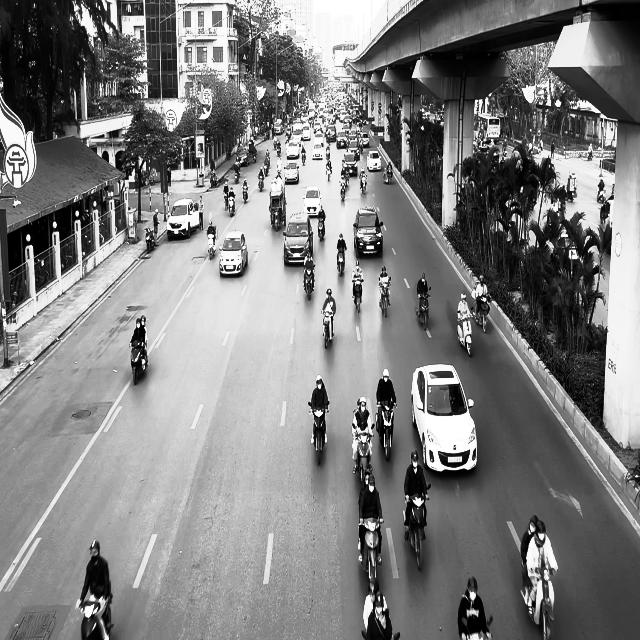bus: (477, 113, 504, 144)
car: (410, 363, 478, 473), (283, 211, 313, 265), (353, 205, 383, 257), (218, 230, 248, 278), (166, 198, 200, 240), (302, 186, 322, 217), (284, 160, 299, 183), (367, 150, 381, 171)
motorbike: (520, 562, 558, 639), (403, 485, 430, 570), (357, 516, 383, 583), (77, 592, 113, 640), (352, 425, 374, 489), (375, 401, 397, 461), (308, 402, 329, 464), (130, 339, 148, 385), (456, 310, 473, 357), (472, 291, 491, 332), (465, 615, 493, 640), (416, 288, 431, 331), (378, 276, 391, 318), (321, 308, 334, 349), (303, 262, 315, 300), (352, 278, 363, 313), (336, 246, 346, 275), (144, 227, 155, 252), (207, 232, 216, 260), (317, 216, 325, 241), (228, 194, 235, 217), (340, 179, 346, 201), (360, 174, 366, 194), (242, 185, 248, 203)
